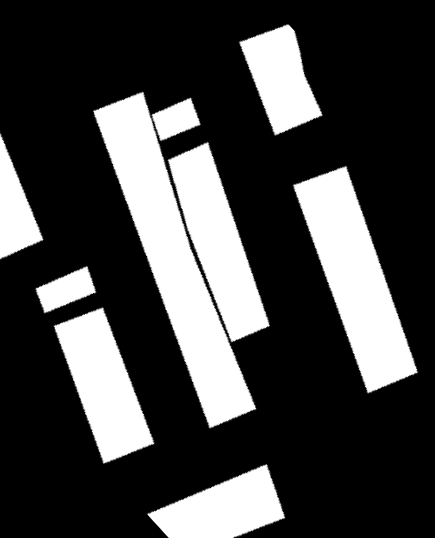parkingspot: (93, 92, 256, 428), (293, 166, 418, 393), (168, 142, 270, 342), (54, 308, 154, 463), (148, 464, 285, 538), (239, 25, 322, 135), (0, 134, 43, 259), (36, 266, 96, 313), (152, 98, 200, 141)
